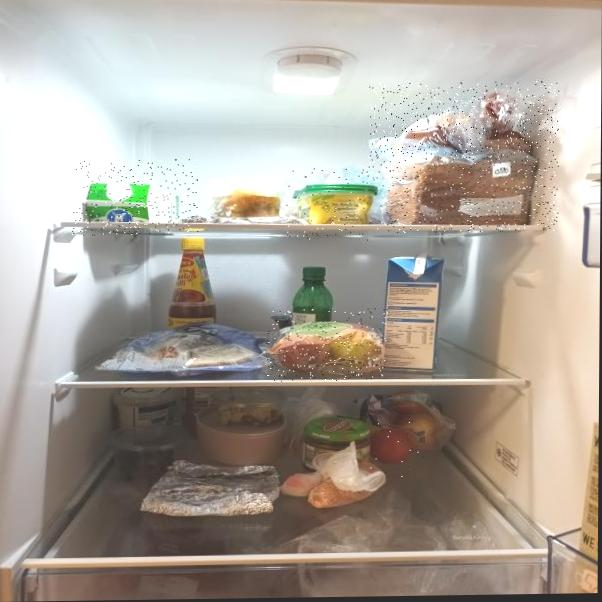apples: (267, 308, 388, 382)
bread: (368, 80, 559, 234)
butter: (285, 167, 389, 242)
milk: (72, 159, 199, 236)
tomatoes: (369, 421, 424, 477)
